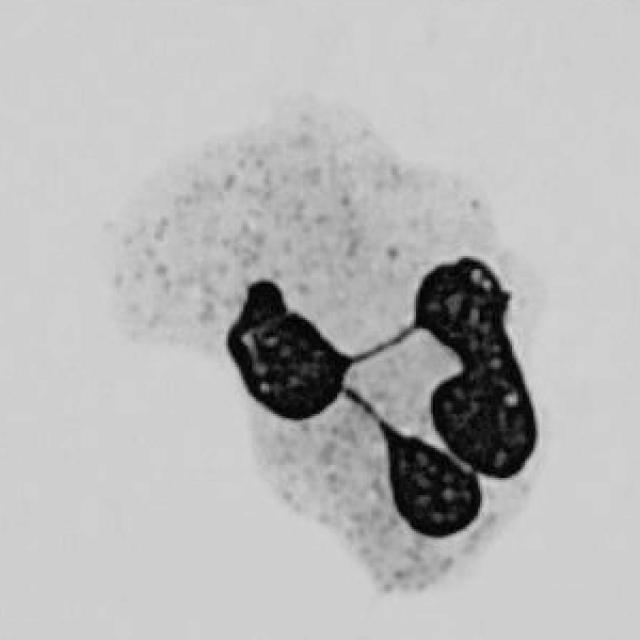WBC: (94, 98, 569, 606)
